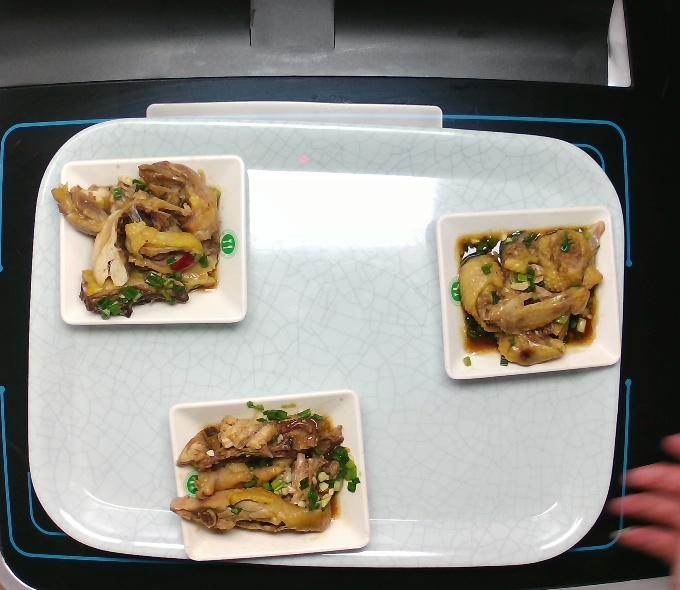wcq-CongYouJi: (48, 158, 225, 320), (165, 405, 361, 538), (453, 217, 607, 371)
